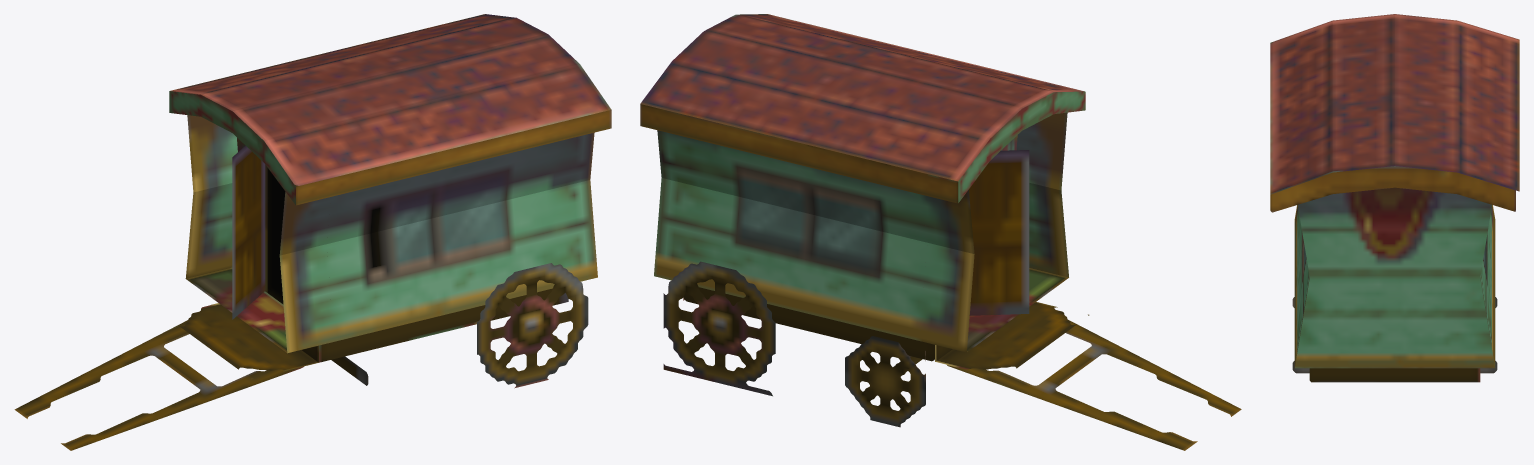
File: wagon.dae
3 renders of one model, left to right at view 1: azimuth 30°, elevation 25°; view 2: azimuth 150°, elevation 25°; view 3: azimuth 270°, elevation 25°, orthographic. The views are drawn at different scales.
Visible parts, largest first — view 1: Wagon; view 2: Wagon; view 3: Wagon.
Part boxes in pixels (x1,y1,x2,y2): Wagon: (14,14,611,450); Wagon: (640,14,1241,450); Wagon: (1270,14,1519,382).
Bounding box in the file's own units: 5.45 × 2.36 × 3.03.
Materials: 1 (1 with a texture image).
